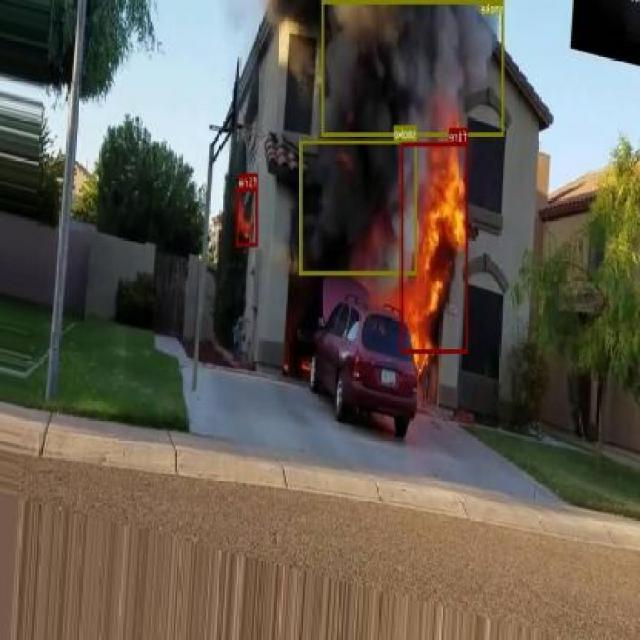Fire: (402, 142, 468, 352), (236, 187, 258, 246)
Smoke: (323, 0, 506, 135), (300, 139, 417, 273)
